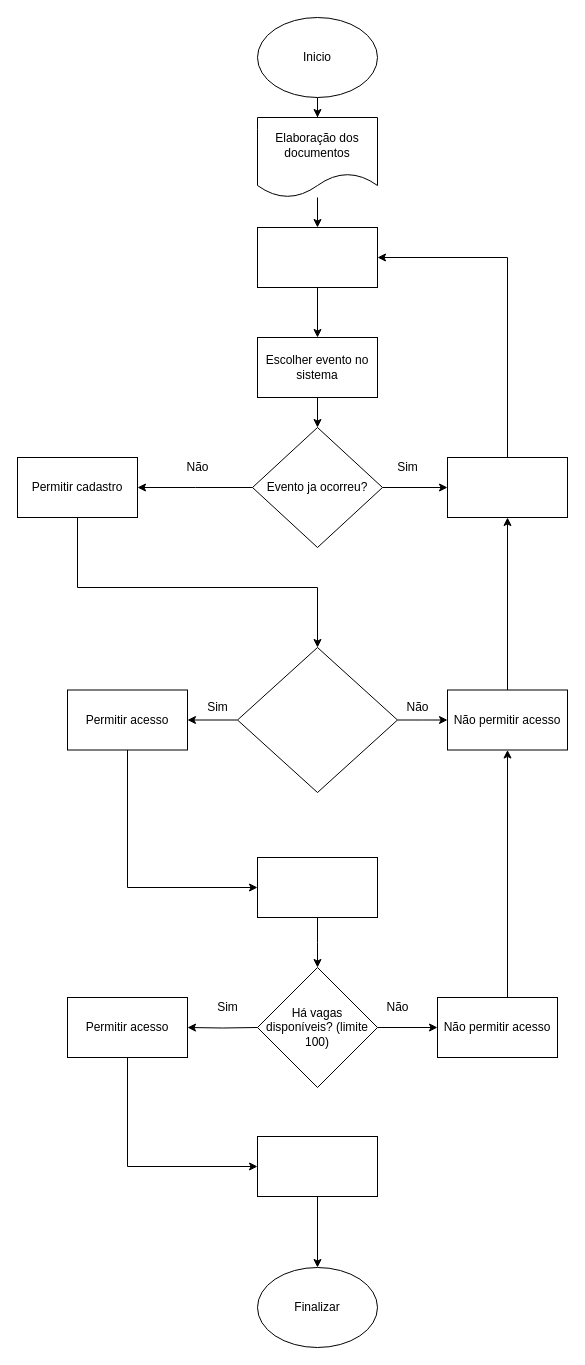
Image size: 585x1365. Some labels were removed from this diagram. Each missing label, with the centre of its shape:
Agendar participação: the point at 317,1166
Exibir informações dos participantes e palestrantes: the point at 317,887
Logar no sistema: the point at 317,257
Não permitir cadastro: the point at 507,487
Possui anos mais de 18 anos de idade?: the point at 317,719
